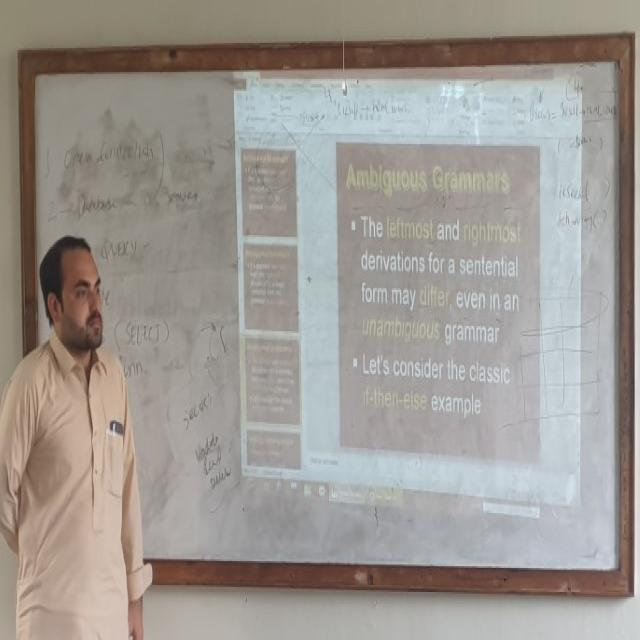Instructor: (12, 227, 141, 640)
Slide: (235, 62, 585, 528)
White-board: (25, 51, 629, 593)
